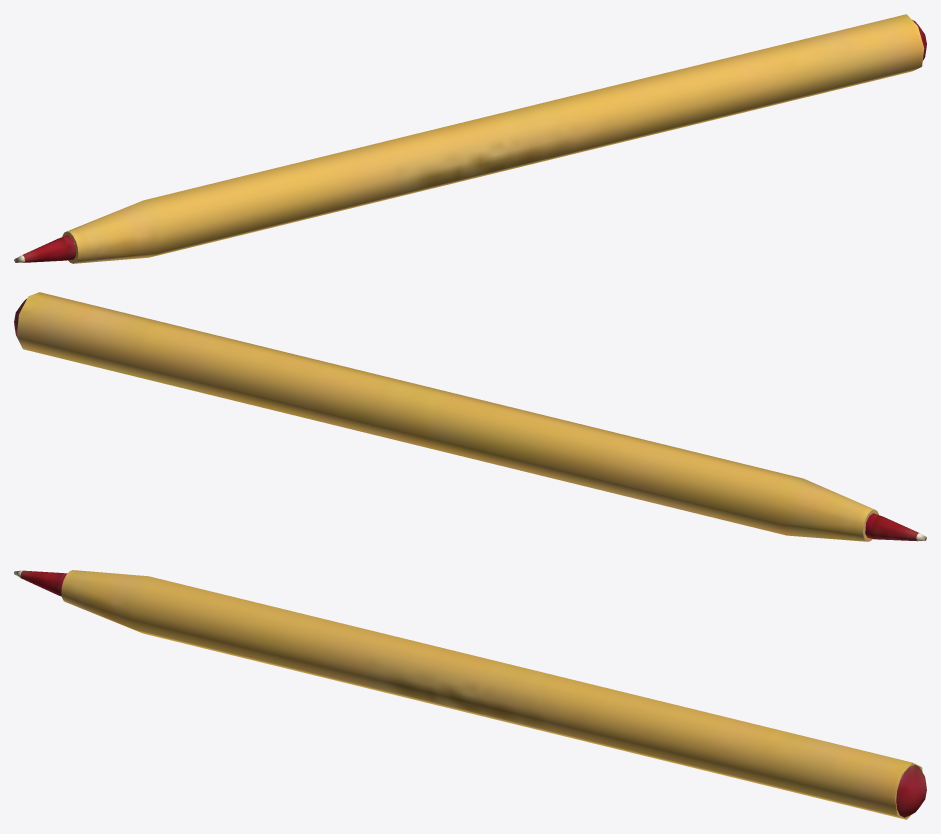
Rendered from ph_pen_red.glb.
3 views of the same model, one above another, from view 1: azimuth 30°, elevation 25°; view 2: azimuth 150°, elevation 25°; view 3: azimuth 330°, elevation 25° (orthographic).
Visible parts, largest first — view 1: stationery_supplies_pen_red; view 2: stationery_supplies_pen_red; view 3: stationery_supplies_pen_red.
Part boxes in pixels (left/top/right/bottom): stationery_supplies_pen_red: left=14, top=14, right=926, bottom=263; stationery_supplies_pen_red: left=14, top=292, right=926, bottom=541; stationery_supplies_pen_red: left=14, top=570, right=926, bottom=819.
Bounding box in the file's own units: 0.1407 × 0.00785 × 0.00785.
1 material, 1 textured.
